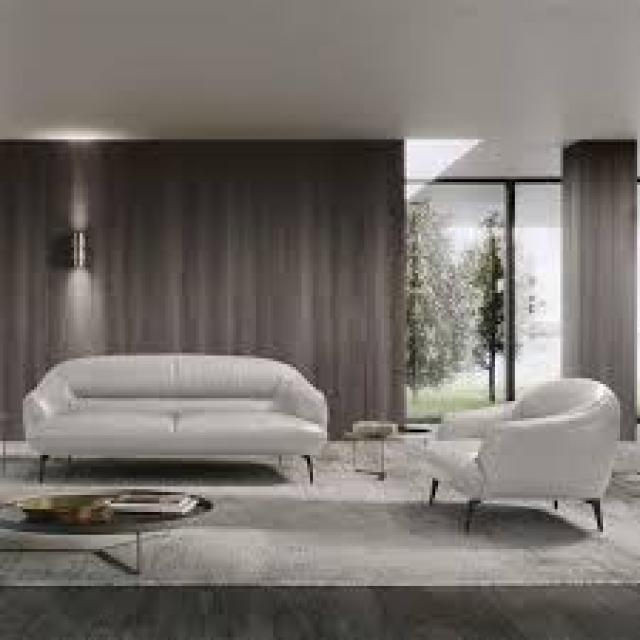Chair: (405, 376, 621, 556)
Lamp: (56, 205, 105, 280)
Sofa: (23, 343, 342, 482)
Table: (2, 487, 213, 595), (351, 414, 402, 485)
